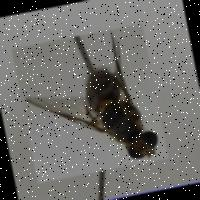Oriental-fruit-fly: (10, 23, 168, 184)
